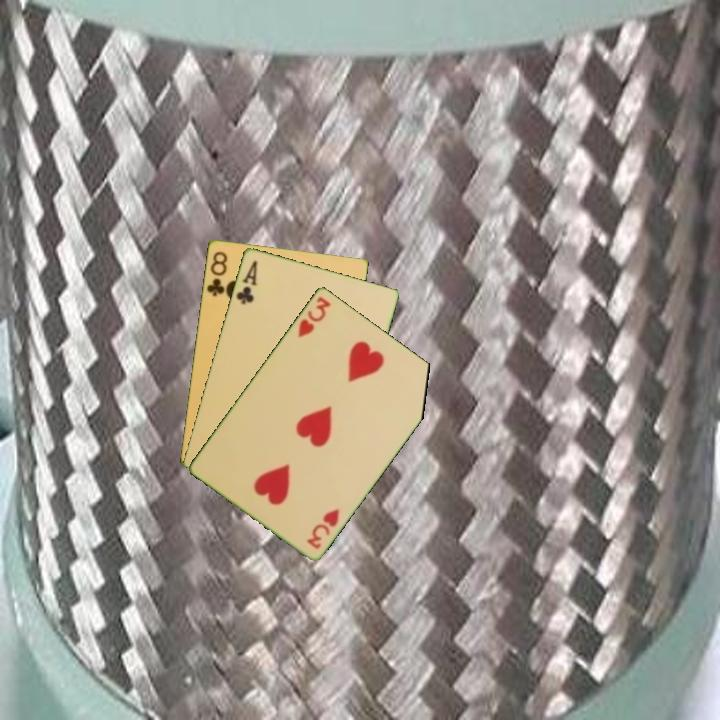3h: (294, 292, 334, 340), (303, 505, 342, 551)
8c: (203, 248, 230, 299)
Ac: (232, 256, 260, 307)
